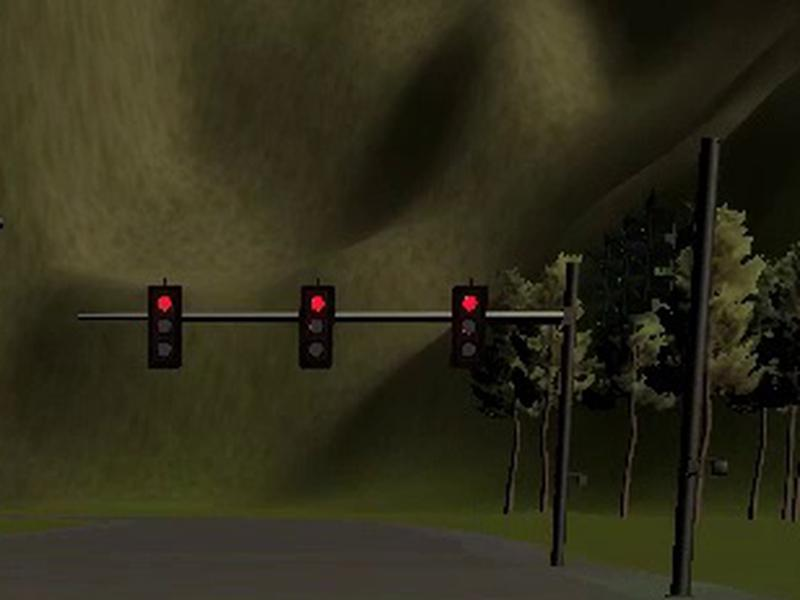Red: (147, 285, 185, 371), (300, 285, 336, 370), (452, 286, 489, 367)
